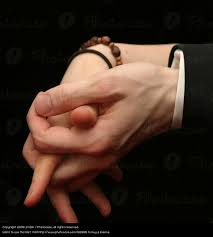hand: (16, 37, 188, 211)
